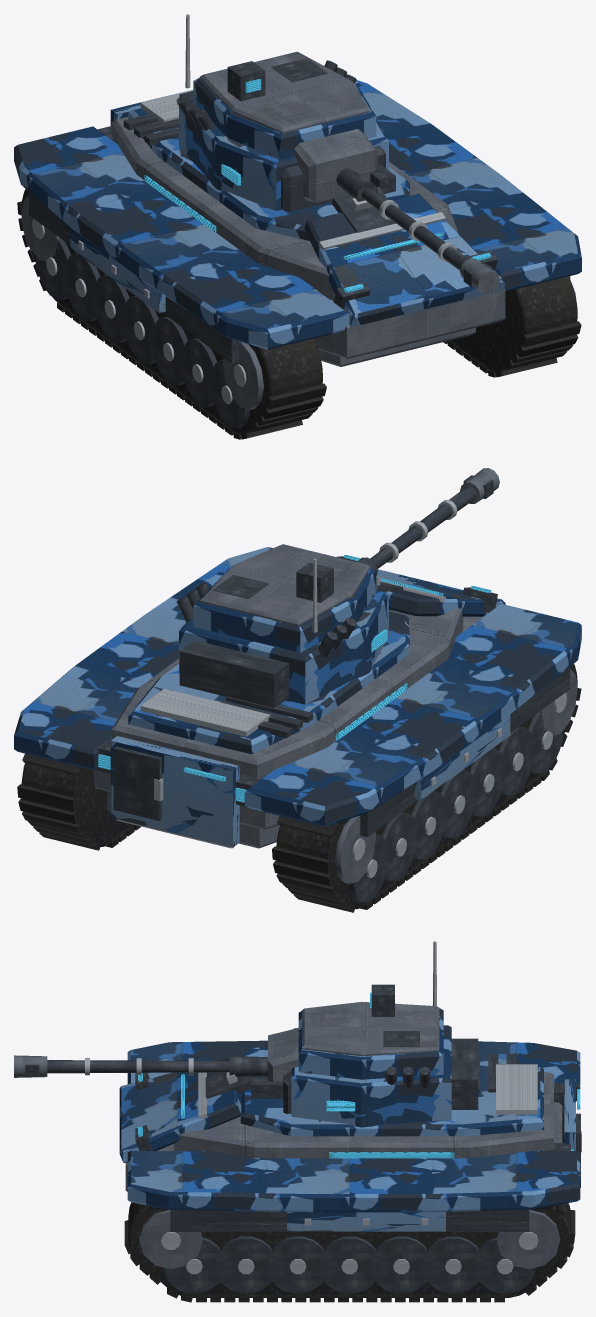
File: lynx-light-ifv.glb
The picture shows the model from 3 angles, top to bottom: view 1: azimuth 30°, elevation 25°; view 2: azimuth 150°, elevation 25°; view 3: azimuth 270°, elevation 25°; orthographic projection. The views are drawn at different scales.
Parts seen in each view (by area): view 1: track_guard, rear_drive, road_wheel_0, track_belt, wheel_hub_0, bow_glow; view 2: track_guard, road_wheel_0, rear_drive, track_belt, wheel_hub_0, bow_glow; view 3: track_guard, road_wheel_0, rear_drive, track_belt, wheel_hub_0, bow_glow.
Boxes of the visible parts, x1,y1,x2,y2 form: track_guard: (14, 78, 581, 349); rear_drive: (21, 51, 577, 409); road_wheel_0: (29, 58, 570, 428); track_belt: (17, 187, 581, 439); wheel_hub_0: (32, 14, 456, 404); bow_glow: (144, 78, 491, 292); track_guard: (14, 547, 581, 847); road_wheel_0: (94, 475, 570, 902); rear_drive: (21, 468, 577, 883); track_belt: (17, 664, 581, 912); wheel_hub_0: (116, 500, 566, 877); bow_glow: (97, 555, 491, 802); track_guard: (119, 1008, 580, 1231); road_wheel_0: (25, 984, 580, 1293); rear_drive: (14, 1001, 562, 1269); track_belt: (124, 1112, 575, 1302); wheel_hub_0: (85, 941, 581, 1274); bow_glow: (138, 992, 580, 1158).
Size of the model in its own units: 4.44 by 3.52 by 6.8.
6 materials, 6 textured.
